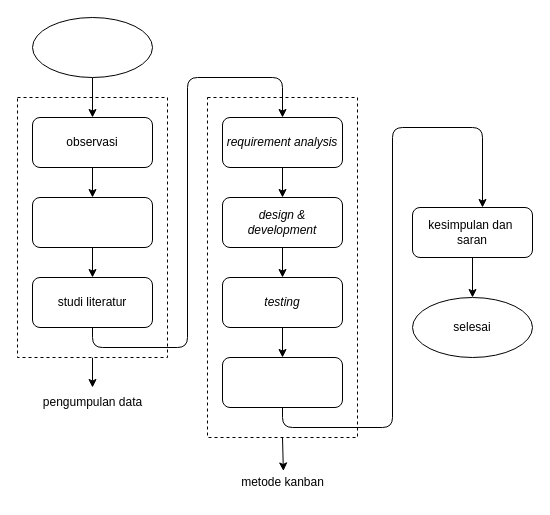
Image size: 550x515. Some labels were removed from this diagram. Here are the shapes that lost their labels. From the top down, the centre of each, then its label:
pixel 92 47: Mulai
pixel 92 222: pengambilan data acara dan tiket
pixel 282 382: deployment
